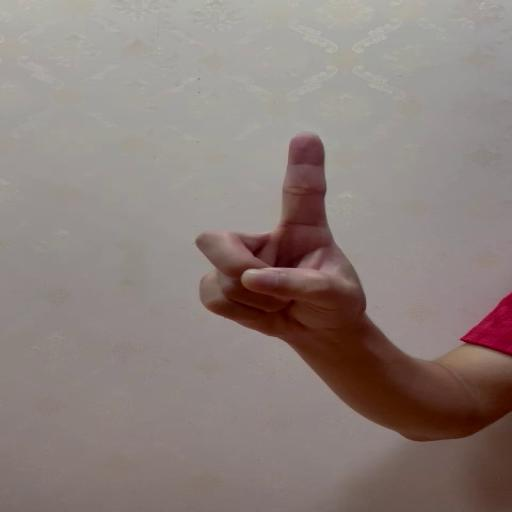point: (194, 129, 342, 330)
